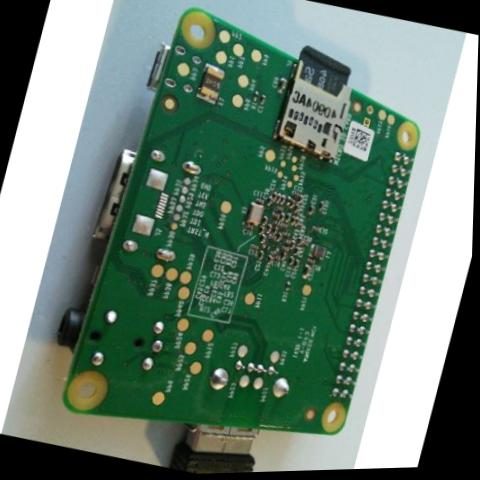Raspberry-Pi-1-Model-A-: (28, 0, 456, 479)
